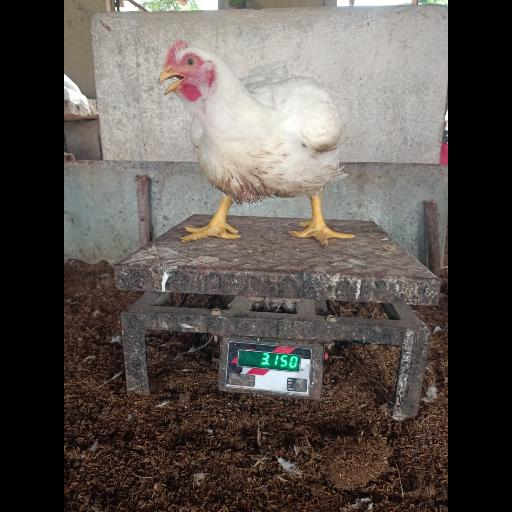chick: (159, 40, 355, 251)
